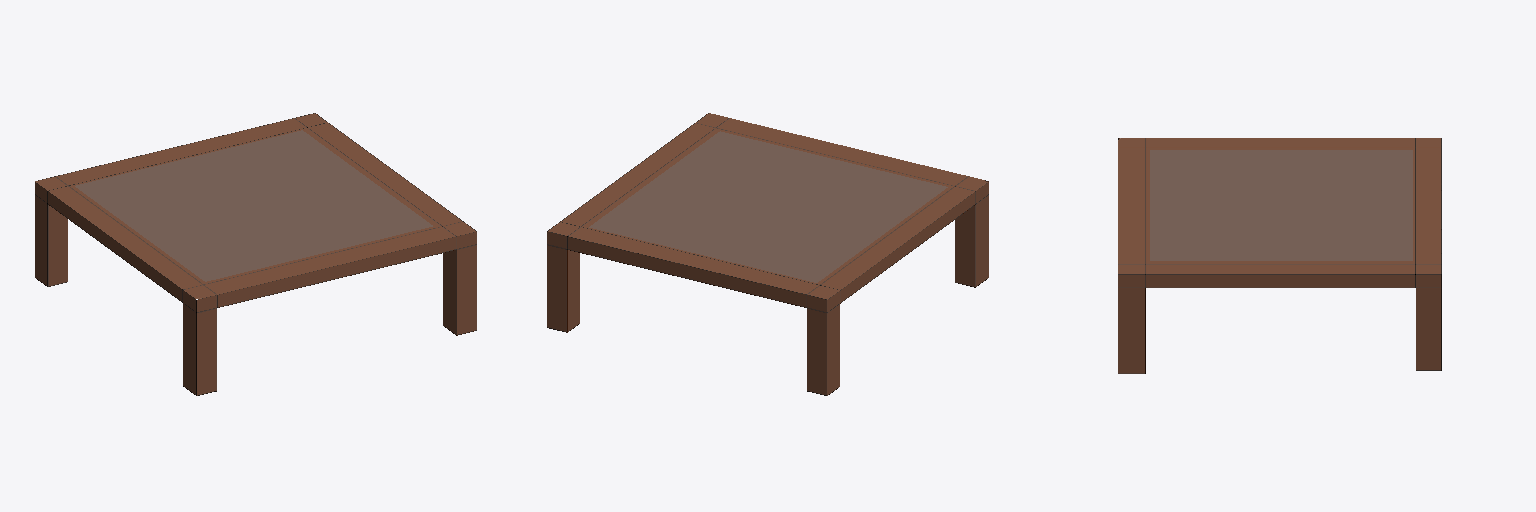
3 views of the same model, side by side, from view 1: azimuth 30°, elevation 25°; view 2: azimuth 150°, elevation 25°; view 3: azimuth 270°, elevation 25° (orthographic).
Parts seen in each view (by area): view 1: Table_Plane.001; view 2: Table_Plane.001; view 3: Table_Plane.001.
Part boxes in pixels (bbox=[...]): Table_Plane.001: bbox=[35, 113, 476, 395]; Table_Plane.001: bbox=[547, 113, 988, 395]; Table_Plane.001: bbox=[1118, 138, 1441, 373].
Size of the model in its own units: 2 by 0.6765 by 2.
Materials: 1 (1 with a texture image).